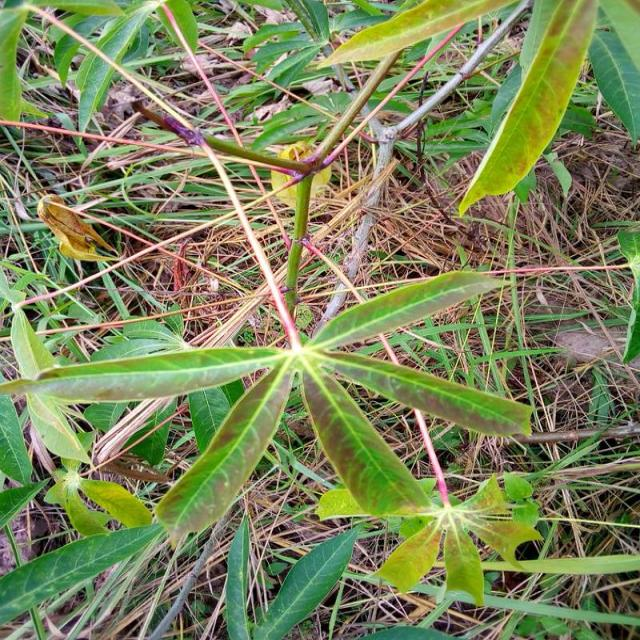cassava leaf: (458, 0, 600, 217), (154, 351, 296, 548), (301, 360, 437, 520)
